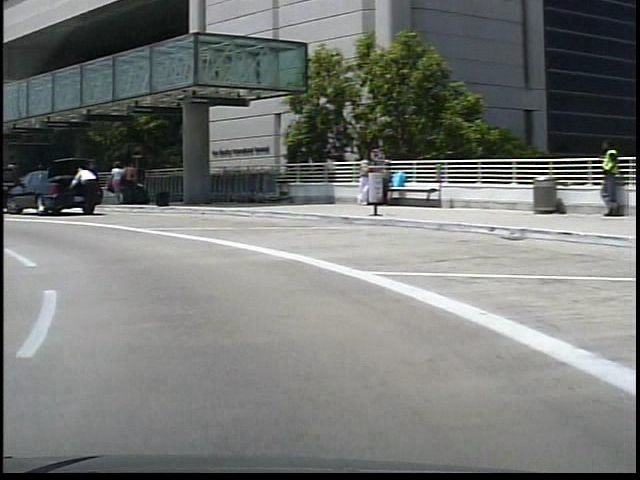person: (585, 137, 614, 219), (64, 166, 97, 220), (117, 158, 133, 209), (104, 163, 116, 203)
